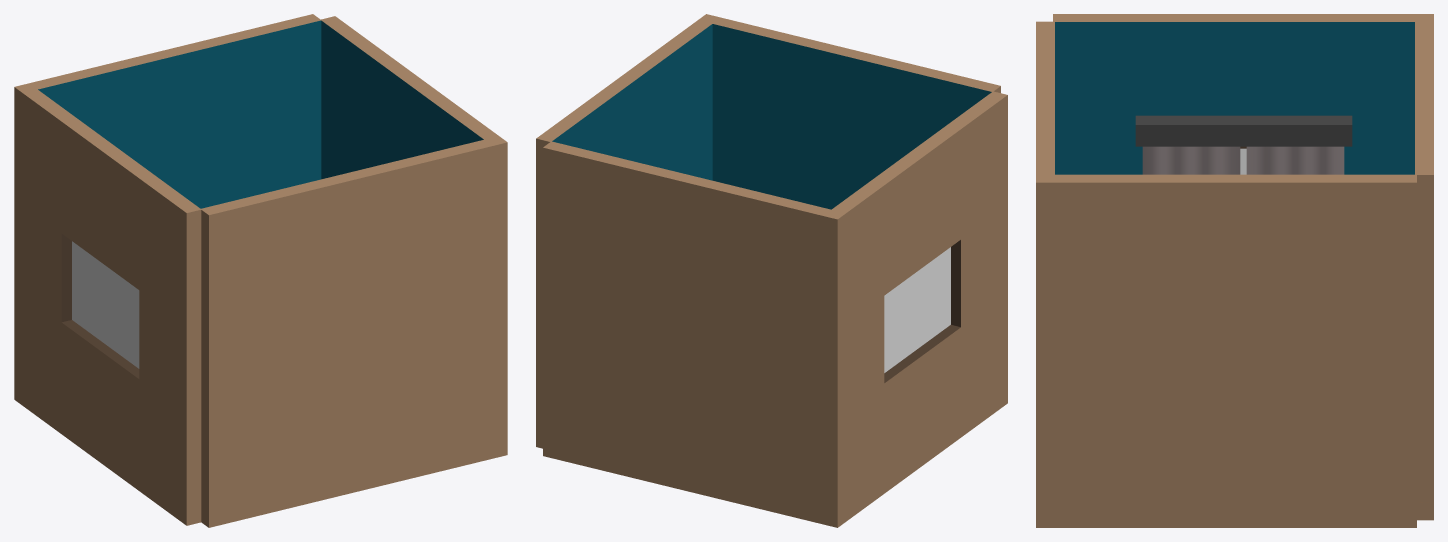
Rendered from Isometric room sketchfab.fbx.
3 views of the same model, side by side, from view 1: azimuth 30°, elevation 25°; view 2: azimuth 150°, elevation 25°; view 3: azimuth 270°, elevation 25° (orthographic). The views are drawn at different scales.
Visible parts, largest first — view 1: Room.001, Room; view 2: Room, Room.001; view 3: Room.001, Room, Curtains.
Part boxes in pixels (x1,y1,x2,y2): Room.001: (201, 16, 507, 527); Room: (14, 14, 321, 525); Room: (543, 91, 1007, 527); Room.001: (536, 14, 1000, 448); Room.001: (1036, 21, 1416, 527); Room: (1053, 14, 1433, 520); Curtains: (1142, 146, 1344, 174).
Bounding box in the file's own units: 210 × 200 × 209.
